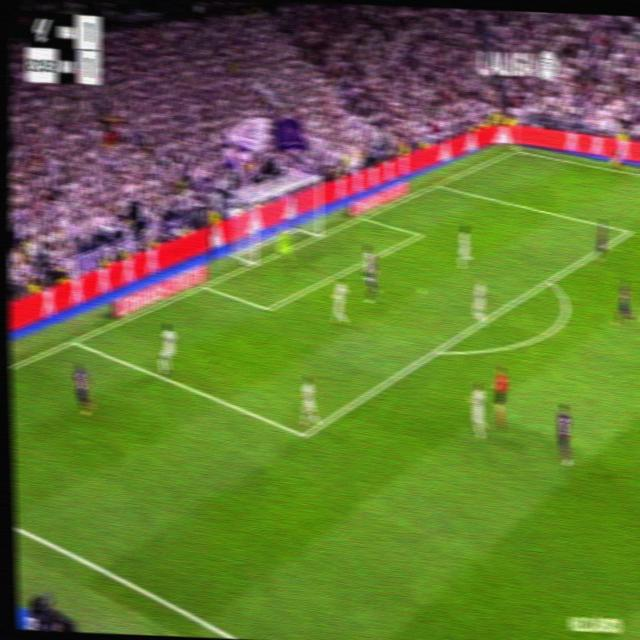bigarea_bottom_inner: (296, 423, 311, 446)
bigarea_bottom_outter: (65, 331, 81, 349)
bigarea_top_inner: (623, 223, 633, 238)
bigarea_top_outter: (432, 176, 443, 189)
bottom_arc_area_intersection: (428, 339, 445, 361)
corner: (509, 144, 520, 154)
smallarea_bottom_inner: (261, 298, 274, 318)
smallarea_top_inner: (414, 227, 423, 240)
top_arc_area_intersection: (542, 268, 556, 289)
